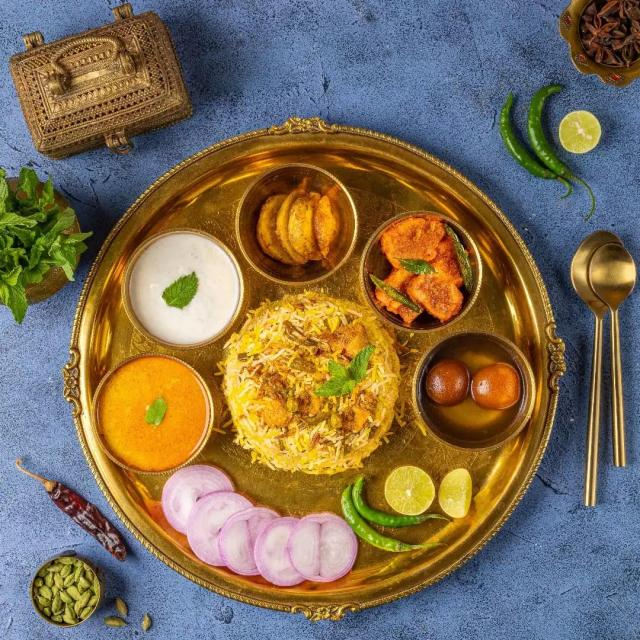non veg meals: (85, 150, 545, 597)
